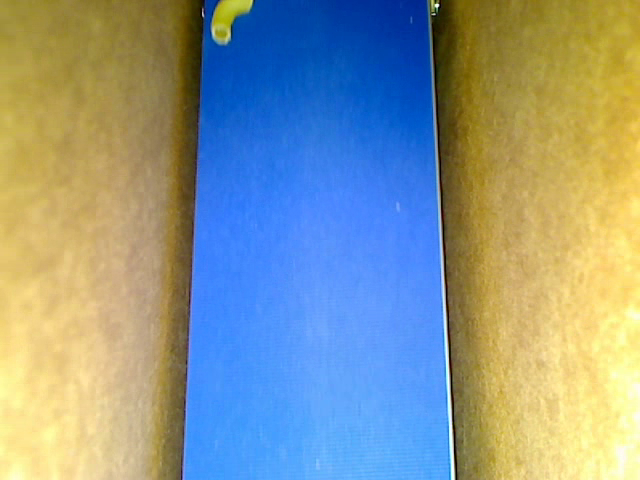elbow: (210, 1, 253, 46)
